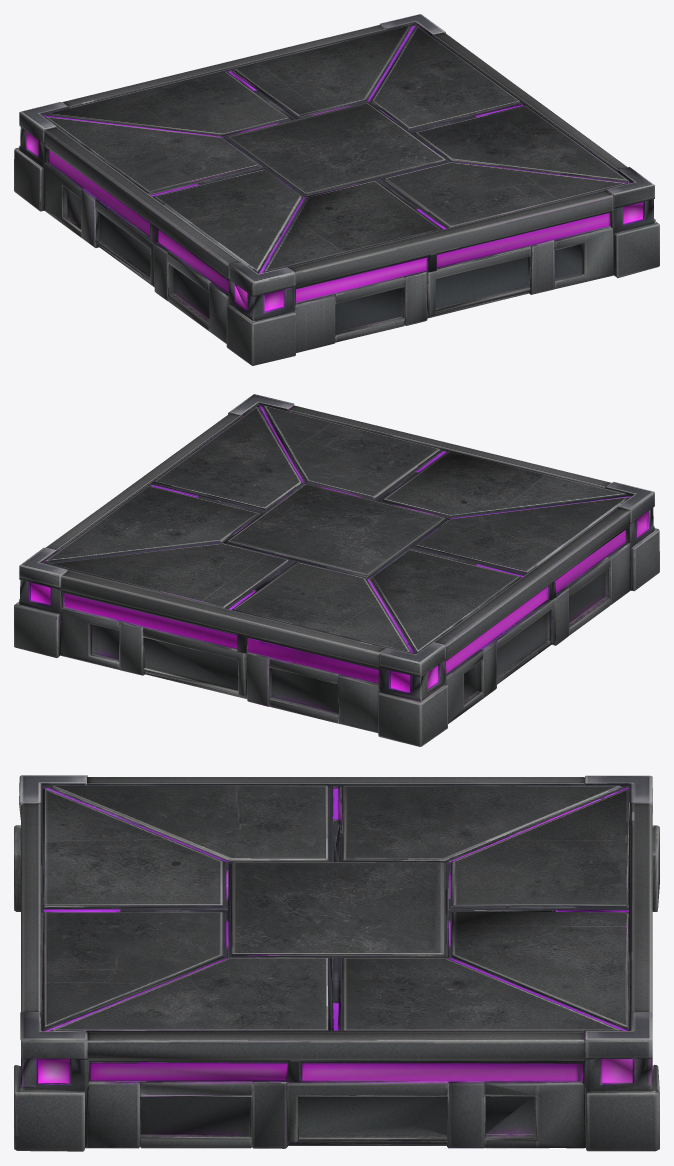
File: floor.glb
3 renders of one model, top to bottom at view 1: azimuth 30°, elevation 25°; view 2: azimuth 150°, elevation 25°; view 3: azimuth 270°, elevation 25°, orthographic. The views are drawn at different scales.
Size of the model in its own units: 0.9351 by 0.1812 by 0.9502.
Materials: 1 (1 with a texture image).
